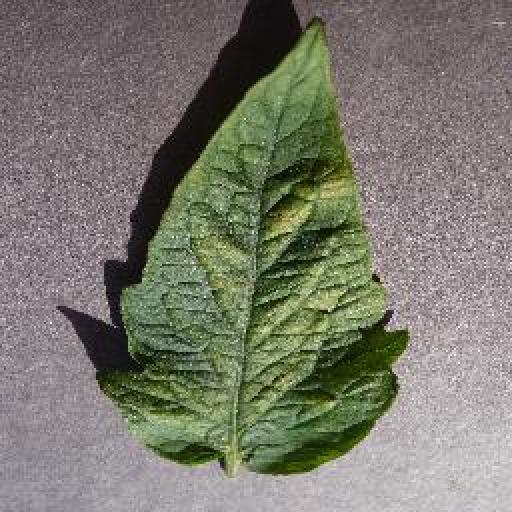disease_tomato: (102, 18, 410, 476)
